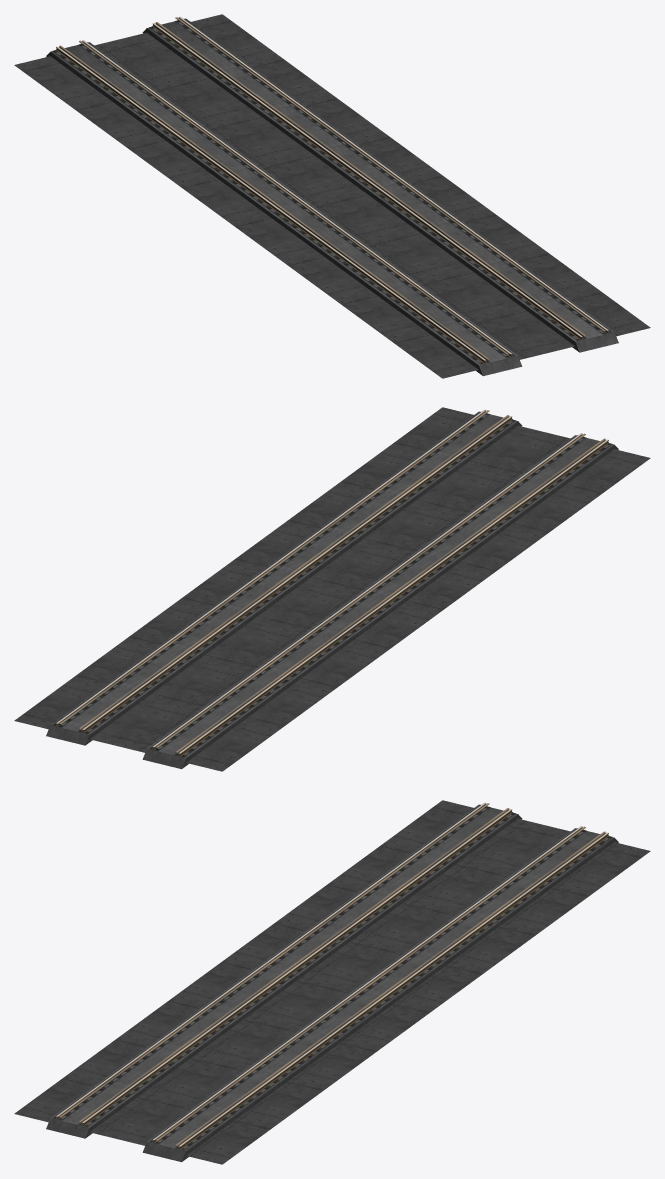
Rendered from NK_2RAIL_KONKURI100.glb.
3 renders of one model, top to bottom at view 1: azimuth 30°, elevation 25°; view 2: azimuth 150°, elevation 25°; view 3: azimuth 330°, elevation 25°, orthographic.
Parts seen in each view (by area): view 1: Ra000, R000_RG_R, R000_RG_L; view 2: Ra000, R000_RG_R, R000_RG_L; view 3: Ra000, R000_RG_L, R000_RG_R.
Part boxes in pixels (box(x1,y1,x2,y2)): Ra000: box(14, 14, 650, 378); R000_RG_R: box(59, 22, 585, 361); R000_RG_L: box(79, 17, 605, 355); Ra000: box(14, 407, 650, 771); R000_RG_R: box(79, 415, 605, 754); R000_RG_L: box(59, 410, 585, 749); Ra000: box(14, 800, 650, 1164); R000_RG_L: box(79, 808, 605, 1147); R000_RG_R: box(59, 803, 585, 1141).
Size of the model in its own units: 28.08 by 1.46 by 102.
6 materials, 5 textured.
